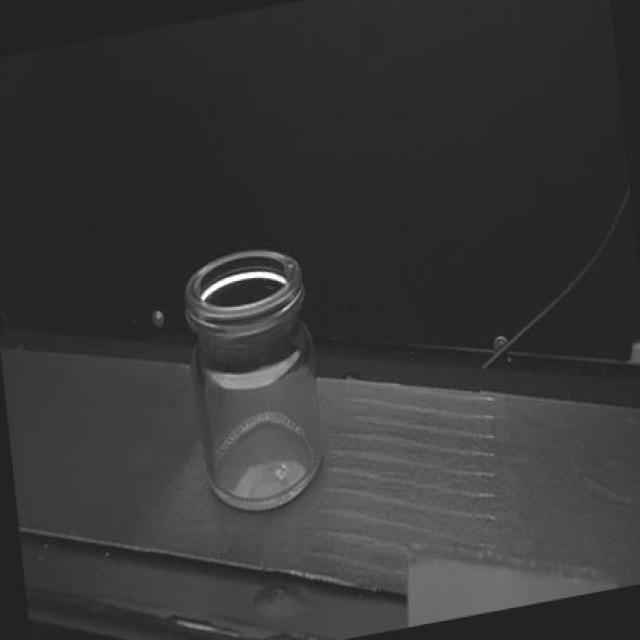defect: (282, 255, 301, 276)
glass: (176, 239, 329, 521)
